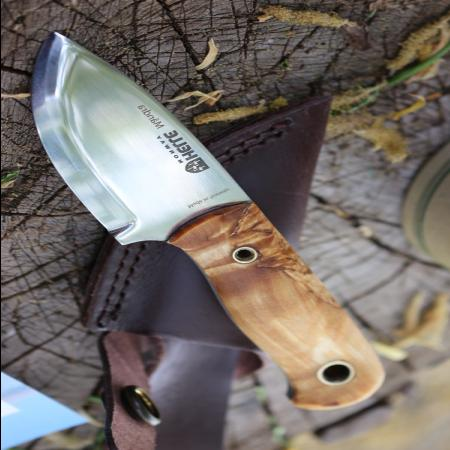long weapon: (26, 20, 264, 254)
